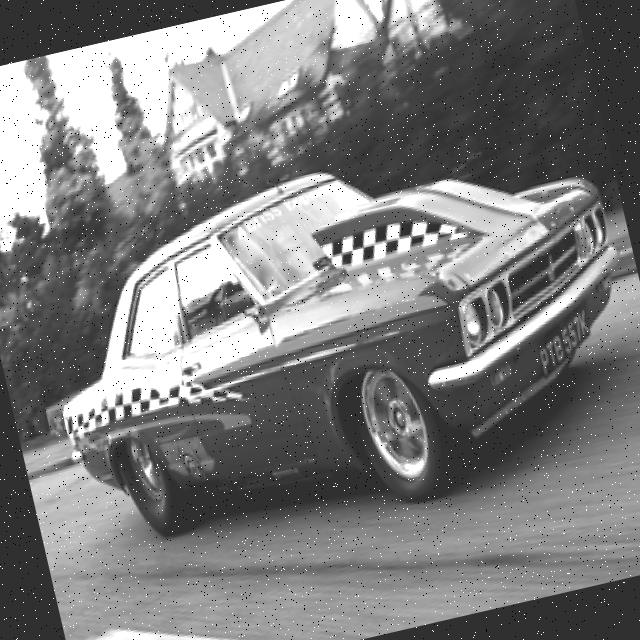Autre: (526, 294, 597, 388)
